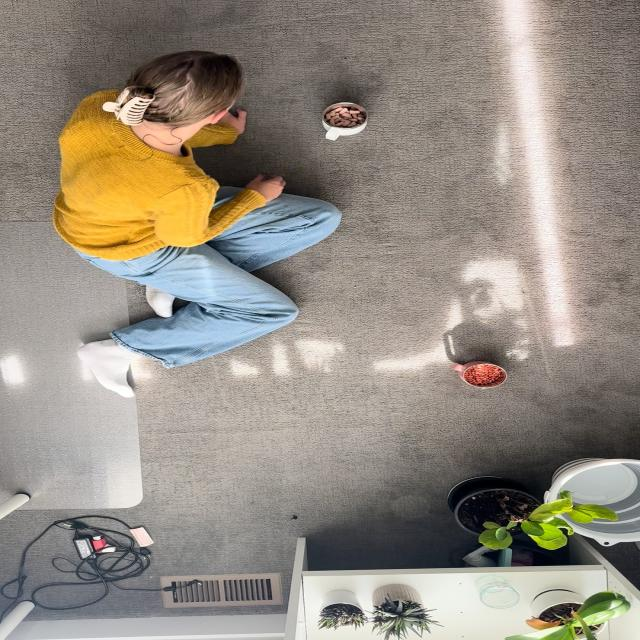IBC: (323, 103, 367, 140), (450, 361, 507, 388)
